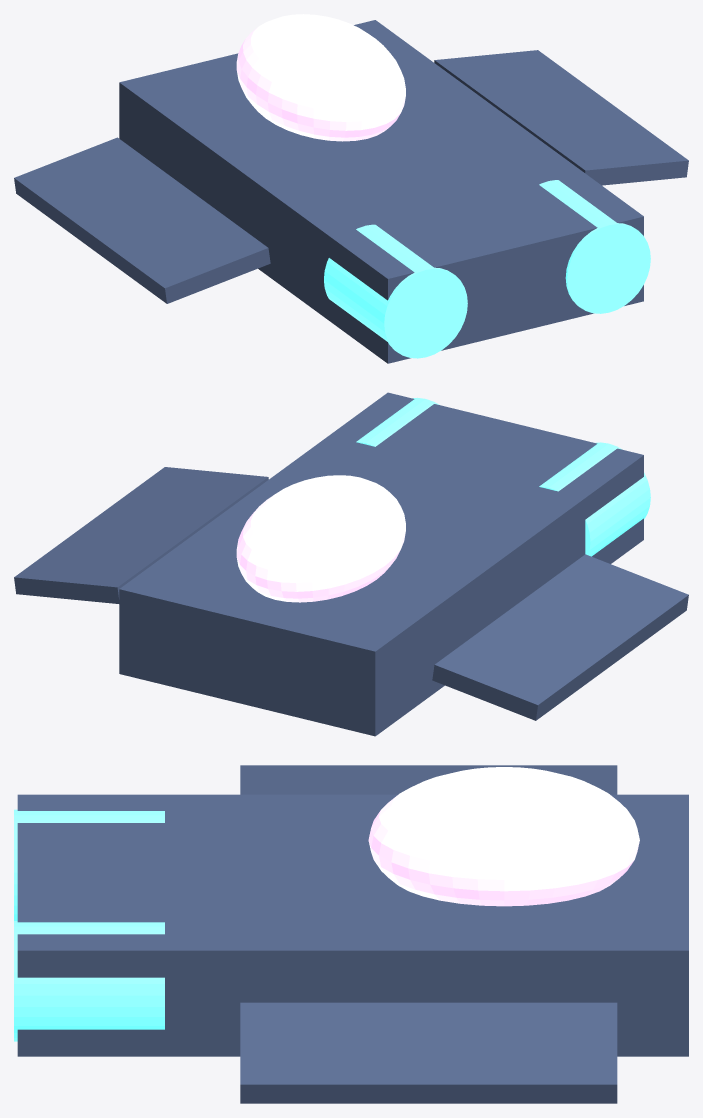
File: scout_t1.glb
The picture shows the model from 3 angles, top to bottom: view 1: azimuth 30°, elevation 25°; view 2: azimuth 150°, elevation 25°; view 3: azimuth 270°, elevation 25°; orthographic projection. The views are drawn at different scales.
Visible parts, largest first — view 1: Cube, Cube.002, Sphere, Cube.001, Cylinder.001, Cylinder; view 2: Cube, Cube.002, Sphere, Cube.001, Cylinder.001, Cylinder; view 3: Cube, Cube.001, Sphere, Cylinder, Cube.002, Cylinder.001.
Part boxes in pixels (box(x1,y1,x2,y2)): Cube: box(119, 20, 643, 363); Cube.002: box(14, 137, 270, 303); Sphere: box(236, 14, 405, 141); Cube.001: box(434, 50, 688, 185); Cylinder.001: box(324, 224, 467, 358); Cylinder: box(539, 180, 650, 313); Cube: box(119, 392, 643, 736); Cube.002: box(432, 554, 688, 720); Sphere: box(236, 475, 405, 602); Cube.001: box(14, 467, 268, 603); Cylinder.001: box(539, 442, 650, 556); Cylinder: box(356, 397, 439, 446); Cube: box(17, 794, 688, 1056); Cube.001: box(240, 1002, 617, 1103); Sphere: box(368, 767, 639, 906); Cylinder: box(14, 921, 164, 1041); Cube.002: box(240, 765, 617, 794); Cylinder.001: box(14, 809, 164, 920).
Bounding box in the file's own units: 2 × 0.59 × 1.79.
